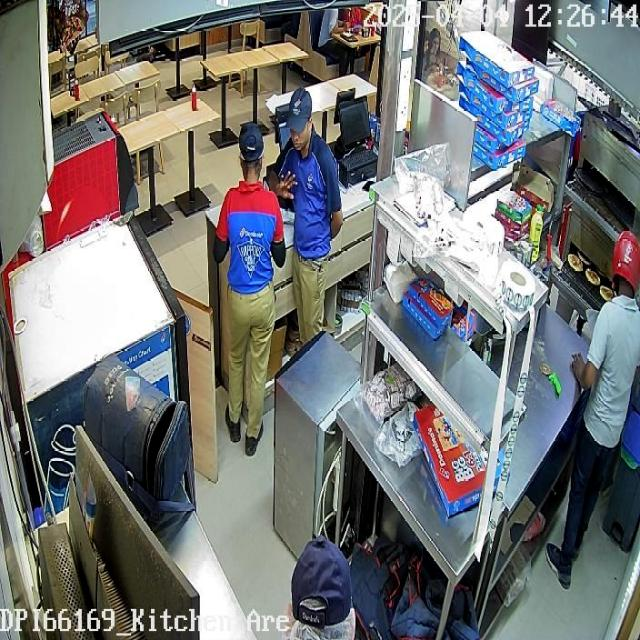helmet: (610, 229, 639, 298)
no_helmet: (285, 86, 312, 156), (238, 122, 263, 180)
